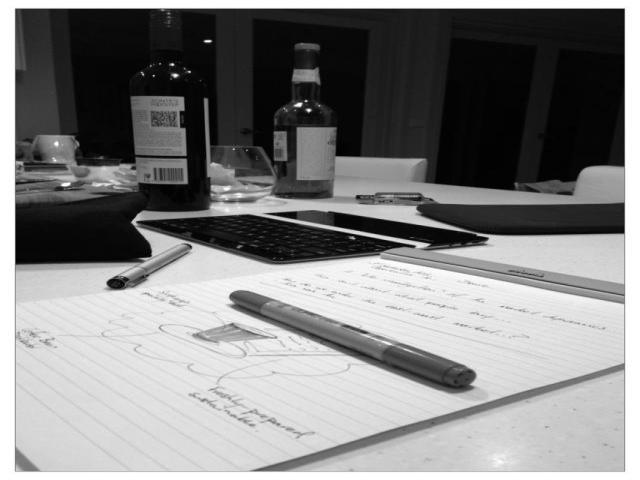PEN: (225, 289, 480, 406), (101, 236, 194, 296)
